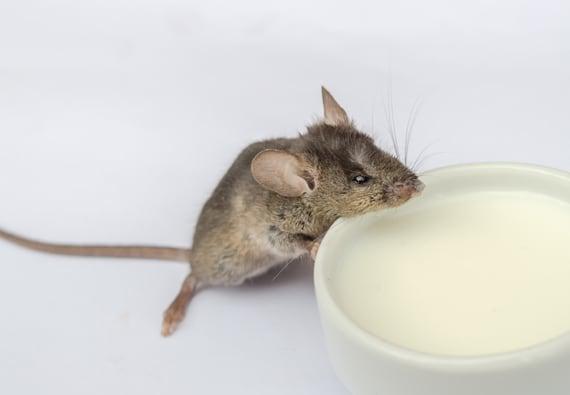rat: (0, 84, 427, 338)
